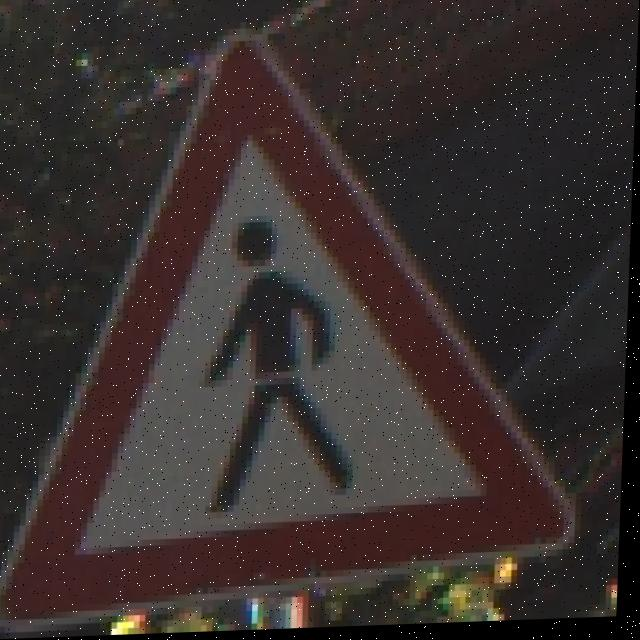crosswalk: (29, 57, 587, 636)
